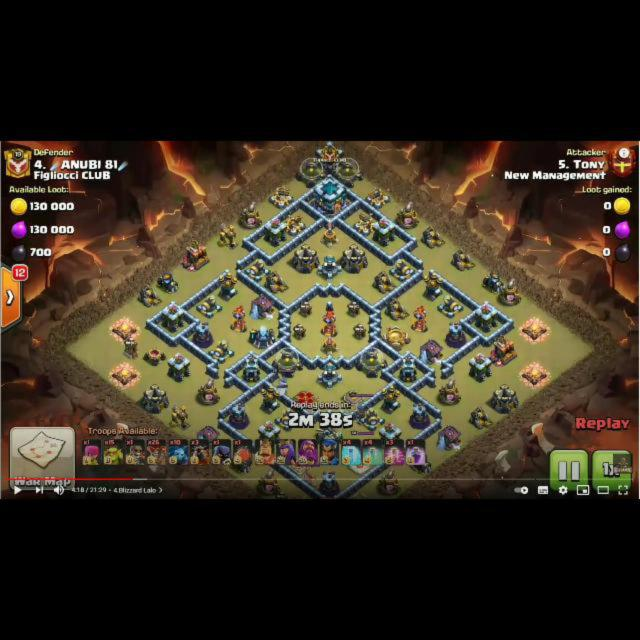AD: (217, 270, 238, 301), (422, 271, 443, 302), (380, 383, 401, 414), (259, 384, 280, 414)
AirSweeper: (319, 221, 339, 247), (319, 334, 339, 356)
BombTower: (243, 353, 260, 381), (400, 354, 417, 382)
Canon: (196, 293, 223, 318), (358, 406, 384, 431), (389, 257, 416, 281), (437, 293, 464, 317), (207, 338, 234, 362), (244, 257, 270, 281), (274, 406, 300, 430)
ClanCastle: (314, 140, 344, 173)
Eagle: (315, 418, 344, 448)
Inferno: (230, 304, 247, 332), (411, 305, 428, 332), (320, 309, 337, 336)
KingPad: (289, 453, 312, 473)
Mortar: (481, 270, 505, 293), (157, 271, 180, 294), (410, 451, 433, 474)
QueenPad: (292, 388, 318, 406)
RcPad: (344, 389, 364, 404)
Scattershot: (316, 252, 342, 280), (317, 360, 342, 388)
TH13: (313, 175, 346, 216)
WardenPad: (347, 455, 371, 474)
WizzTower: (318, 470, 340, 497), (192, 320, 213, 348), (409, 401, 430, 429), (446, 321, 467, 348), (228, 401, 248, 429)
Xbow: (268, 182, 294, 208), (352, 210, 378, 236), (364, 184, 390, 208), (283, 213, 306, 236)
